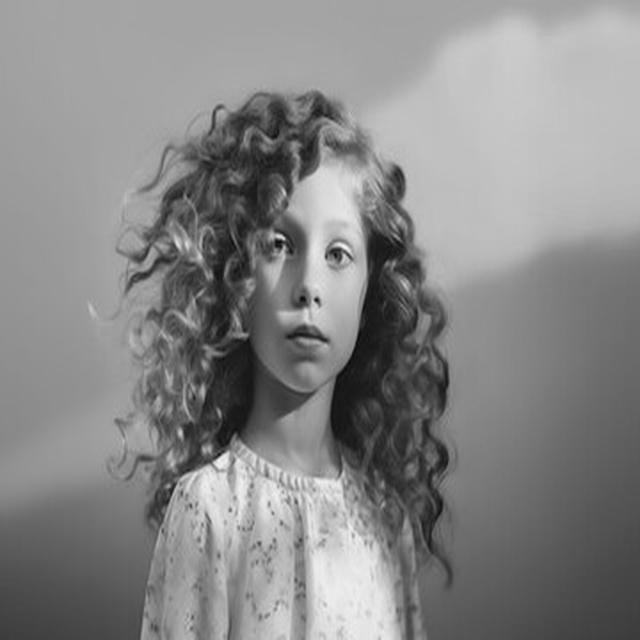Neutral: (246, 164, 368, 392)
